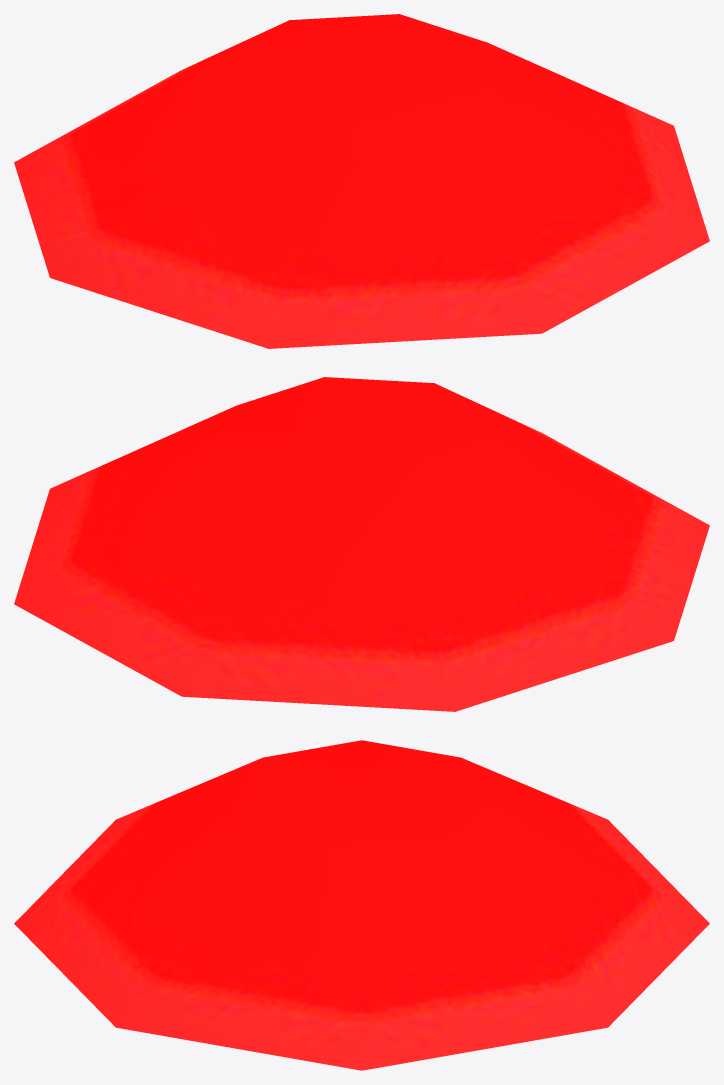
The model's file is defaultconeneonred.glb.
The picture shows the model from 3 angles, top to bottom: view 1: azimuth 30°, elevation 25°; view 2: azimuth 150°, elevation 25°; view 3: azimuth 270°, elevation 25°; orthographic projection. The views are drawn at different scales.
Visible parts, largest first — view 1: DefaultConeNeonRed; view 2: DefaultConeNeonRed; view 3: DefaultConeNeonRed.
Part boxes in pixels (x1,y1,x2,y2): DefaultConeNeonRed: (14,14,709,348); DefaultConeNeonRed: (14,377,709,711); DefaultConeNeonRed: (14,740,709,1070).
Bounding box in the file's own units: 0.312 × 0.0614 × 0.312.
Materials: 1 (1 with a texture image).
